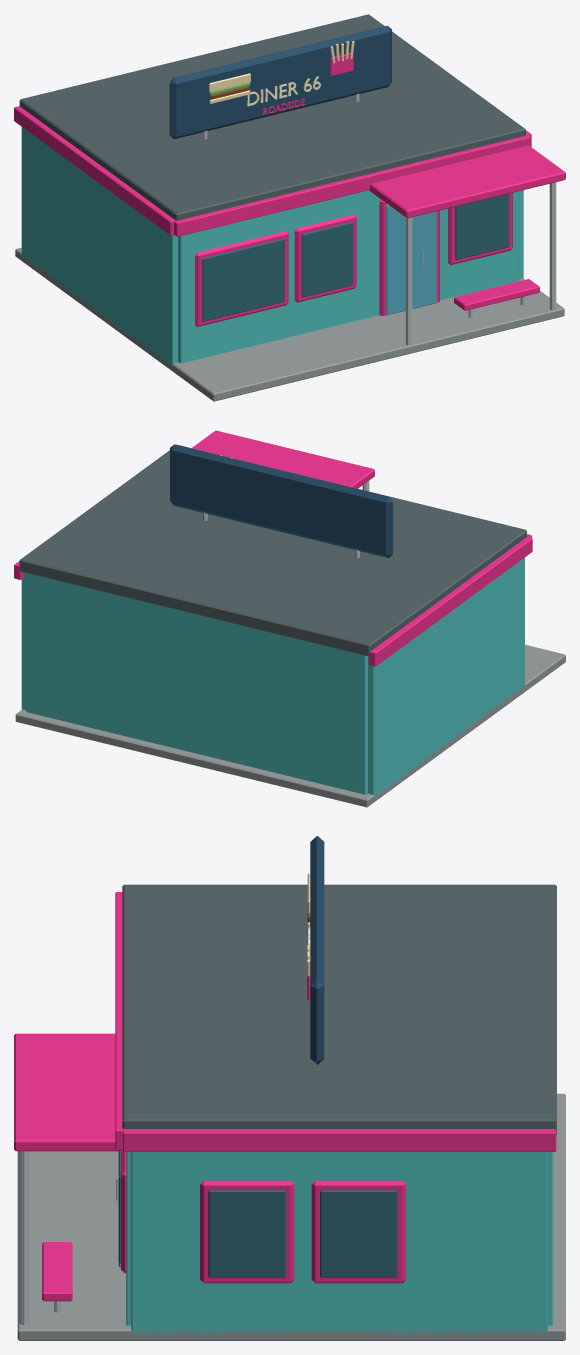
Rendered from RoadsideDiner.glb.
3 renders of one model, top to bottom at view 1: azimuth 30°, elevation 25°; view 2: azimuth 150°, elevation 25°; view 3: azimuth 270°, elevation 25°, orthographic. The views are drawn at different scales.
Parts seen in each view (by area): view 1: FTF_Building_FarmTown_Route66RoadsideDiner_9x9m_Mesh; view 2: FTF_Building_FarmTown_Route66RoadsideDiner_9x9m_Mesh; view 3: FTF_Building_FarmTown_Route66RoadsideDiner_9x9m_Mesh.
Part boxes in pixels (x1,y1,x2,y2): FTF_Building_FarmTown_Route66RoadsideDiner_9x9m_Mesh: (14,14,565,401); FTF_Building_FarmTown_Route66RoadsideDiner_9x9m_Mesh: (14,430,565,807); FTF_Building_FarmTown_Route66RoadsideDiner_9x9m_Mesh: (14,836,565,1340).
Size of the model in its own units: 9.04 by 5.45 by 8.66.
